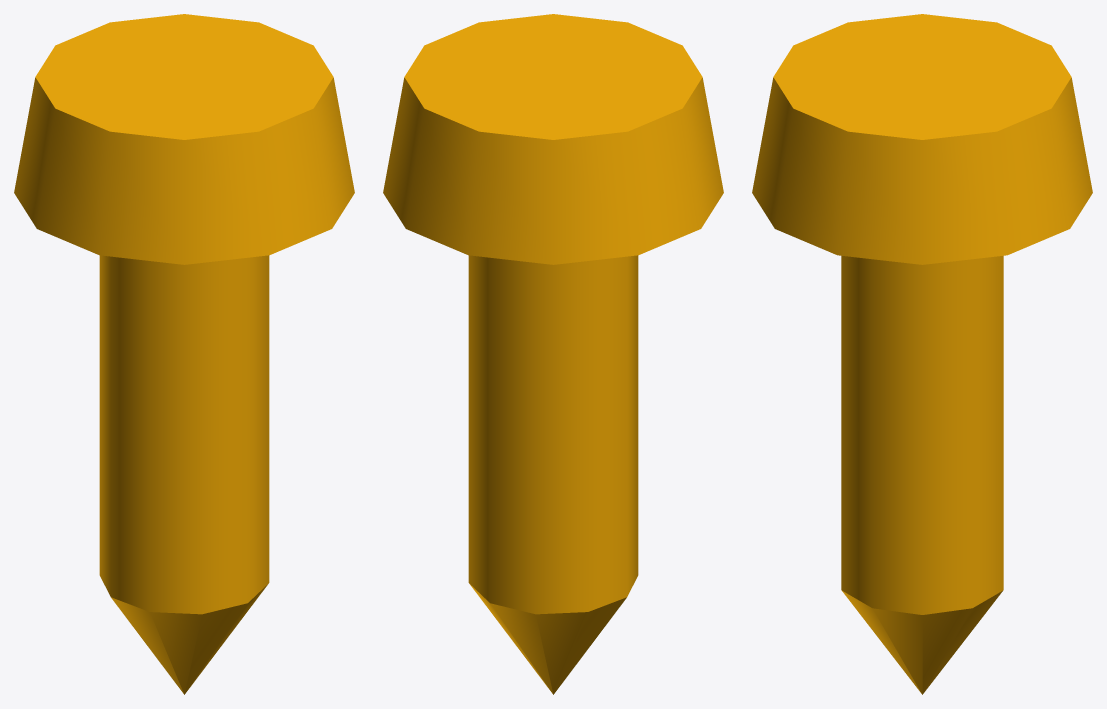
The model's file is screw.glb.
The picture shows the model from 3 angles, left to right: view 1: azimuth 30°, elevation 25°; view 2: azimuth 150°, elevation 25°; view 3: azimuth 270°, elevation 25°; orthographic projection.
Visible parts, largest first — view 1: screw; view 2: screw; view 3: screw.
Boxes of the visible parts, left/top/right/bottom form: screw: left=14, top=14, right=354, bottom=694; screw: left=383, top=14, right=723, bottom=694; screw: left=752, top=14, right=1092, bottom=694.
Size of the model in its own units: 0.008 by 0.016 by 0.008.
